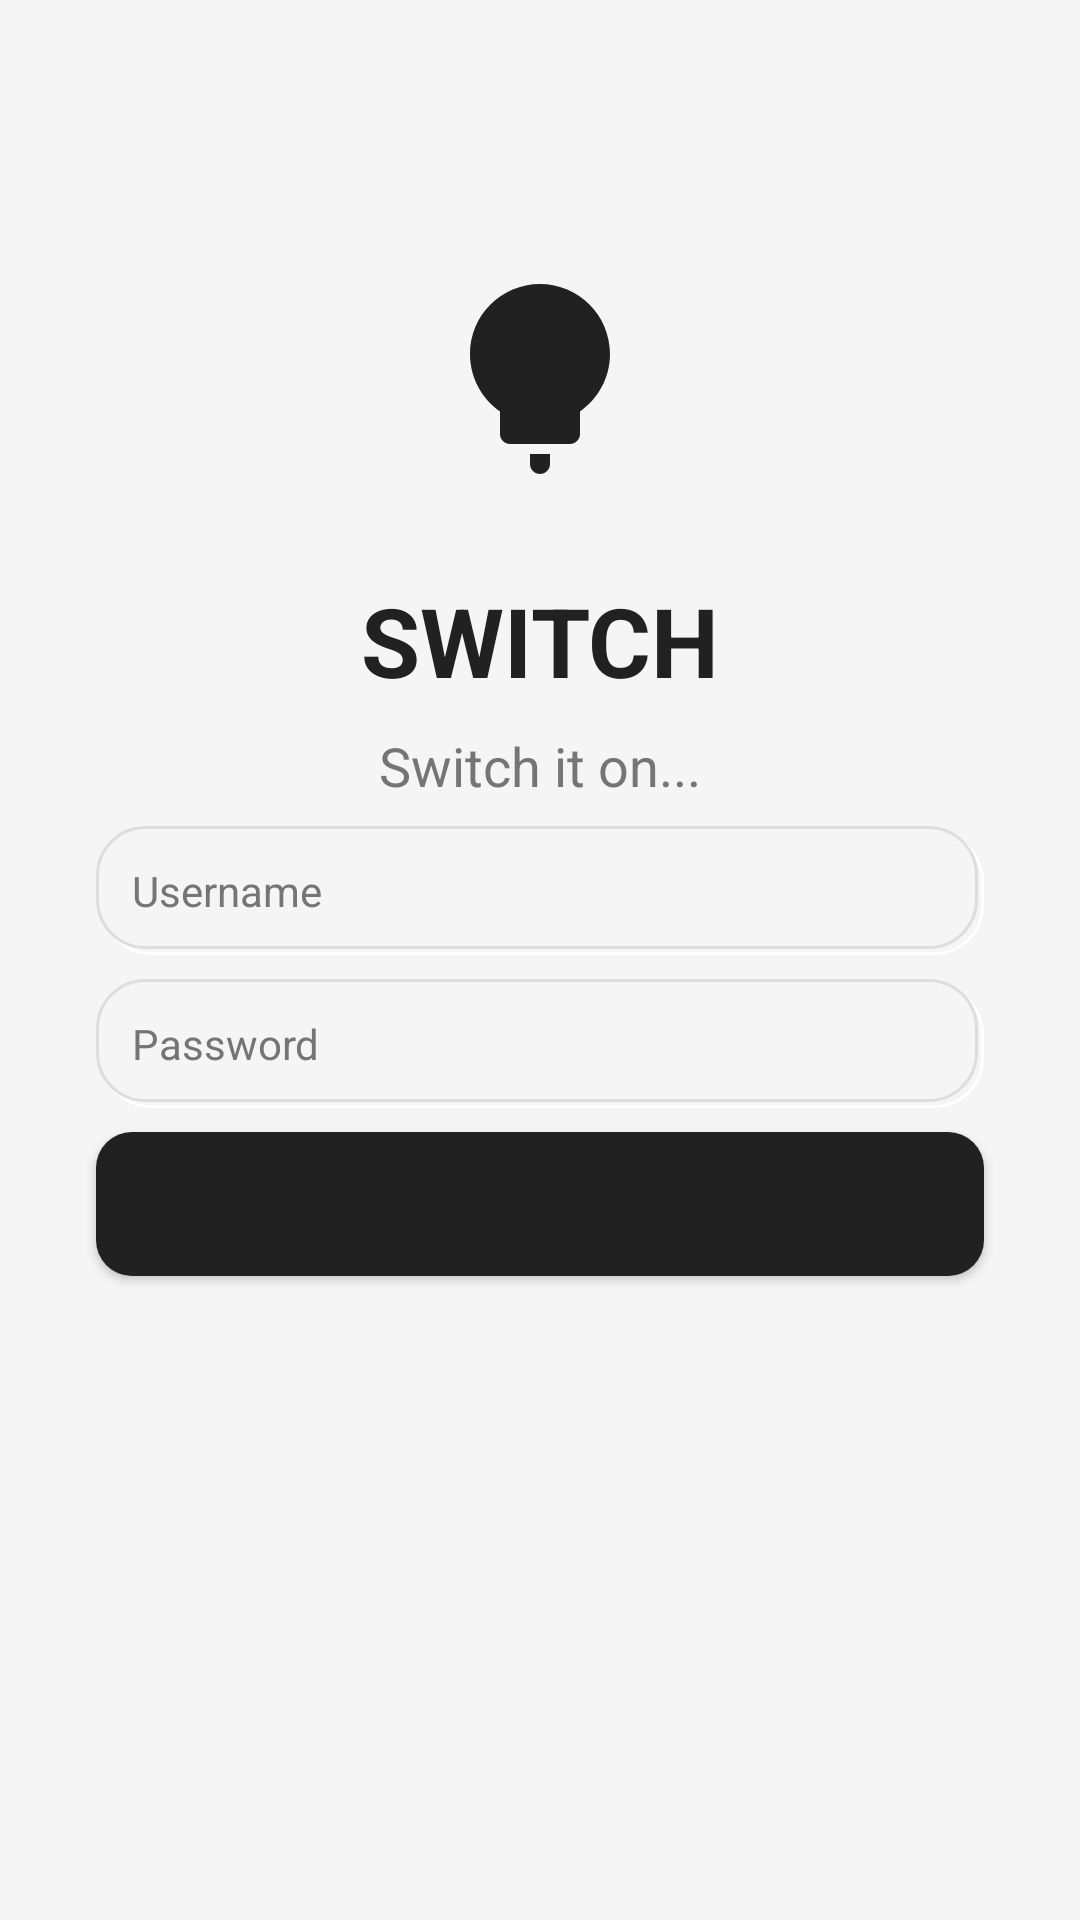

Named icons in this screenshot (1080*1920) and their bounding boxes, bbox=[x1, y1, x2, y2]:
lightbulb: bbox=[470, 284, 610, 474]
